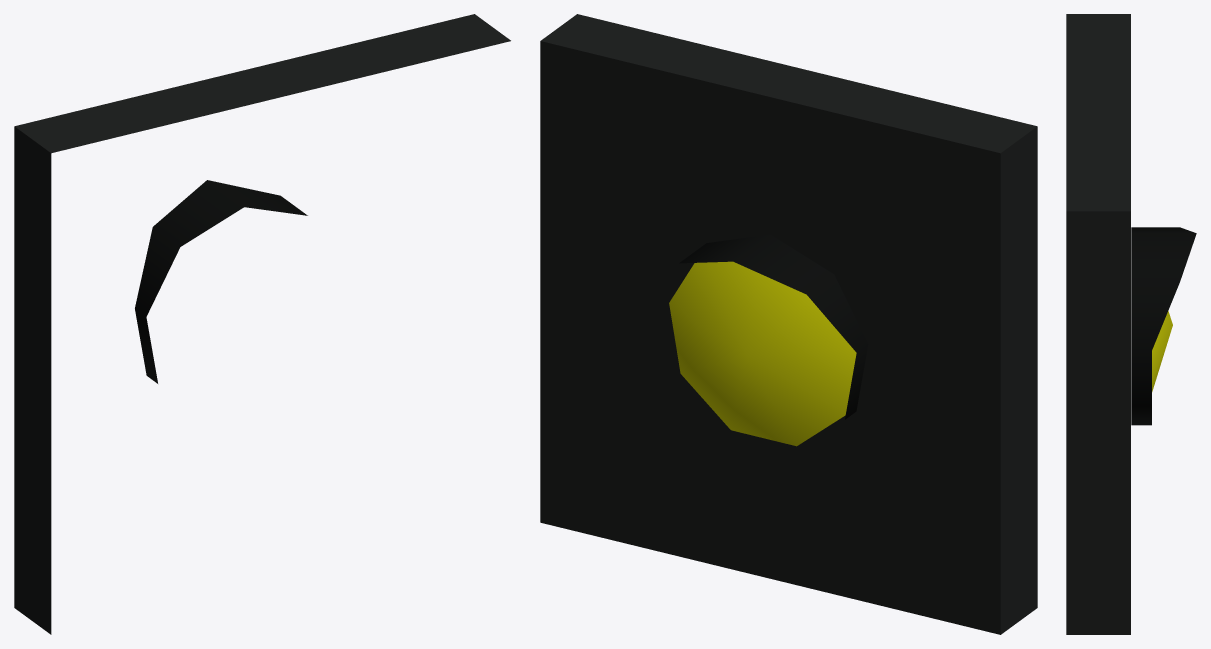
The model's file is AMB_SIGNAL_Y_FLASH.glb.
3 renders of one model, left to right at view 1: azimuth 30°, elevation 25°; view 2: azimuth 150°, elevation 25°; view 3: azimuth 270°, elevation 25°, orthographic. The views are drawn at different scales.
Parts seen in each view (by area): view 1: obj2; view 2: obj2, obj5; view 3: obj2, obj5.
Boxes of the visible parts, <box> form: obj2: <box>14,14,510,634</box>; obj2: <box>540,14,1037,634</box>; obj5: <box>669,261,856,446</box>; obj2: <box>1066,14,1196,634</box>; obj5: <box>1152,311,1172,391</box>.
Bounding box in the file's own units: 2 × 2 × 0.5587.
2 materials, 2 textured.
